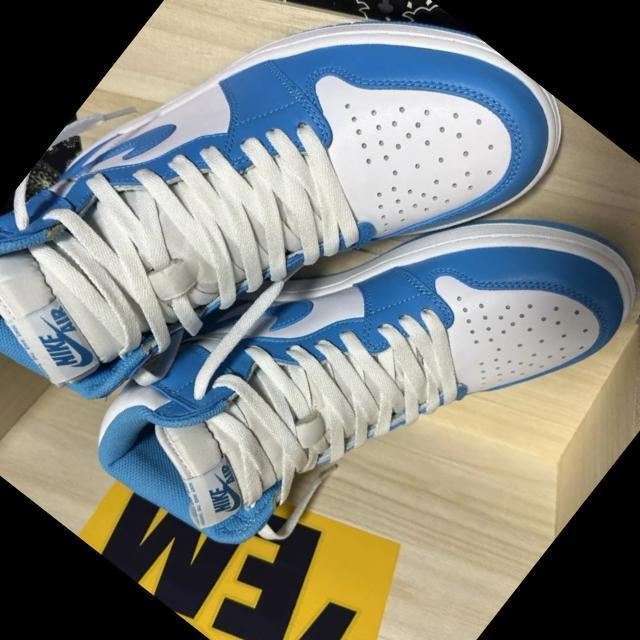nike original jordan 1: (77, 56, 640, 640), (0, 0, 585, 542)
